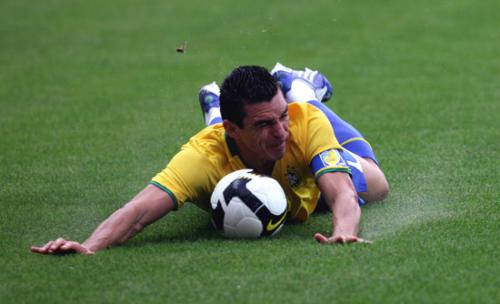fall: (41, 42, 350, 263)
